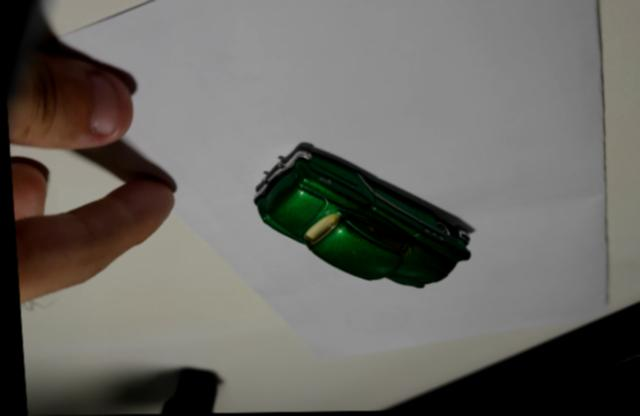06_MASERATI: (250, 141, 471, 289)
